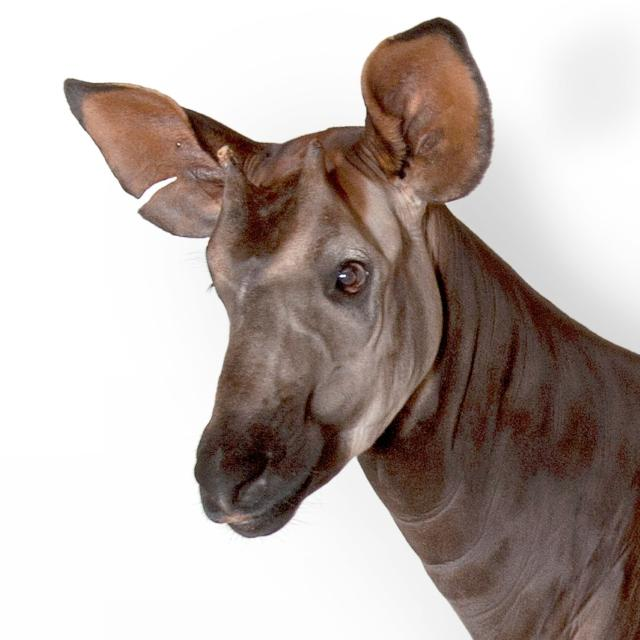Okapi: (60, 17, 640, 640)
